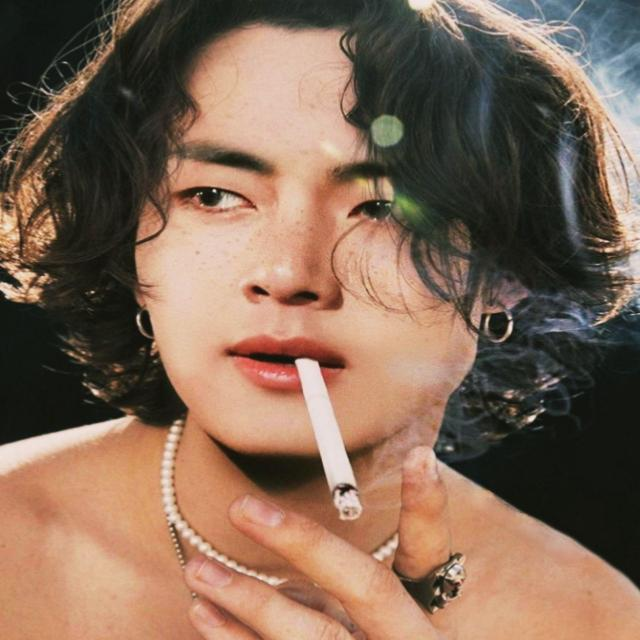cigarette: (279, 333, 382, 543)
